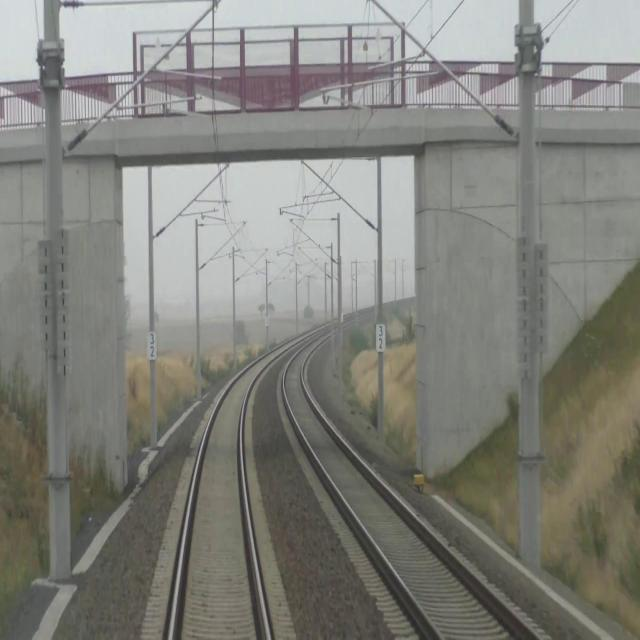rail-track: (285, 331, 535, 639), (173, 348, 281, 639)
